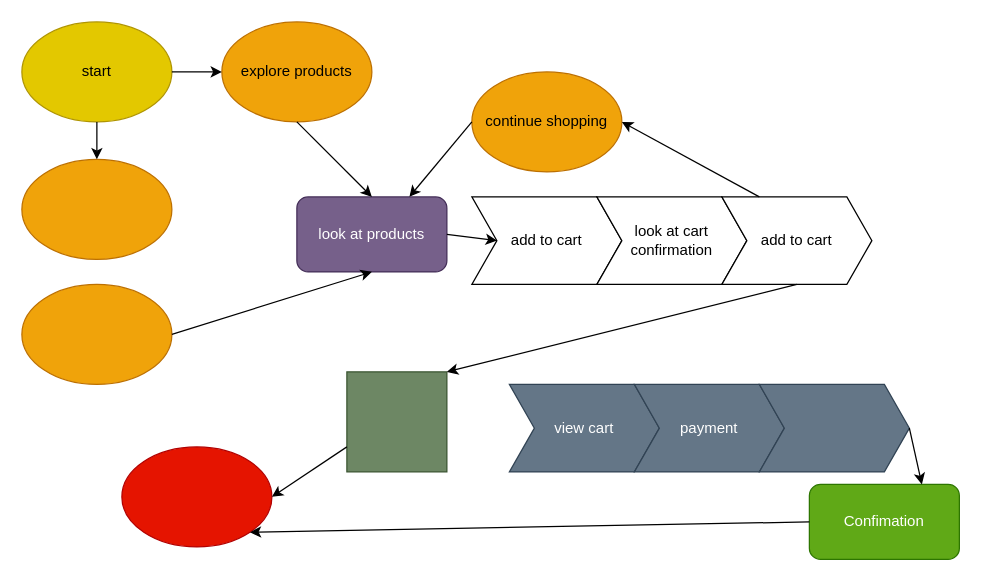
Some shapes in this 981 by 581 pixel diagram are drawn without their labels. The shapes that lost their labels are listed below. From the top down, each one's centre as x and y in pixels, then its label:
point (96, 208): search products
point (96, 333): input for search
point (396, 421): checkout or not
point (833, 427): input payent details
point (196, 496): exit
